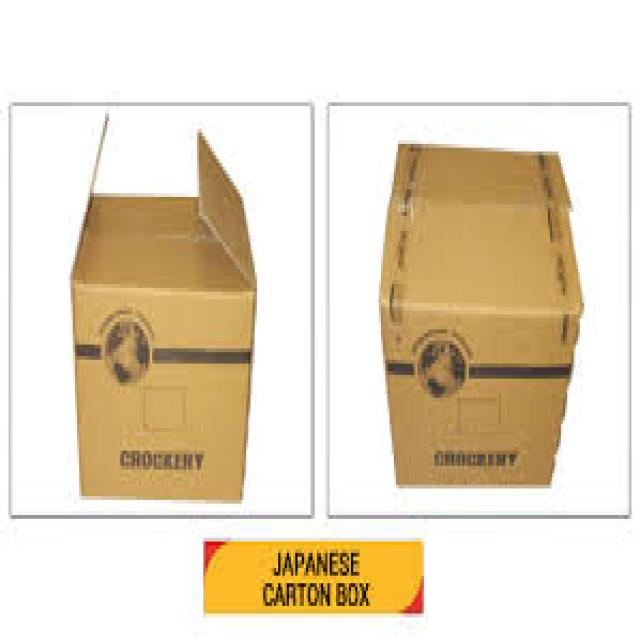cardboard: (67, 110, 253, 500), (375, 140, 580, 489)
